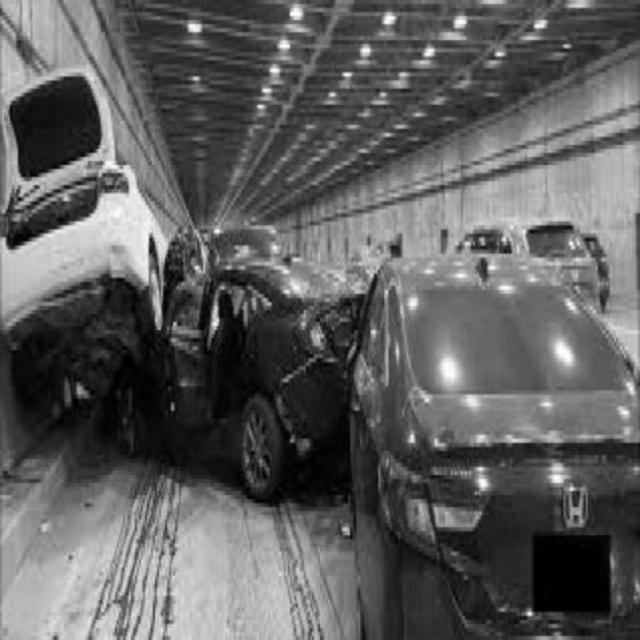accident: (9, 78, 637, 630)
